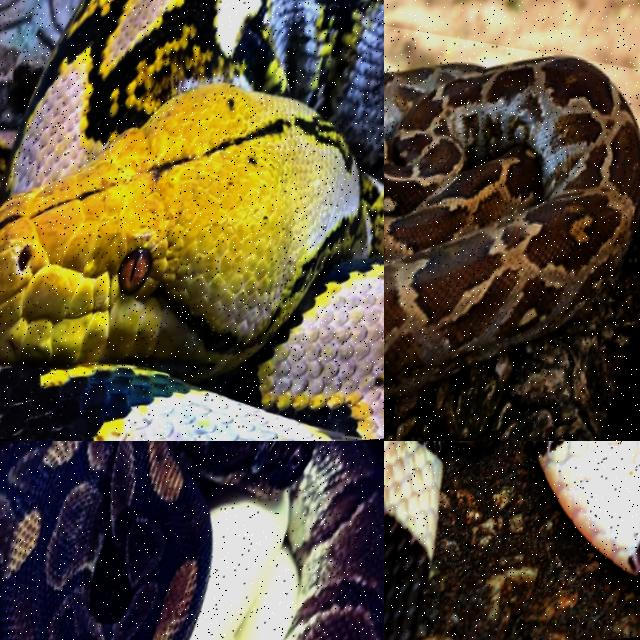Bungarus fasciatus: (384, 441, 445, 639)
Malayopython reticulatus: (0, 0, 383, 440)
Python bivittatus: (384, 58, 639, 399), (0, 441, 383, 639)
